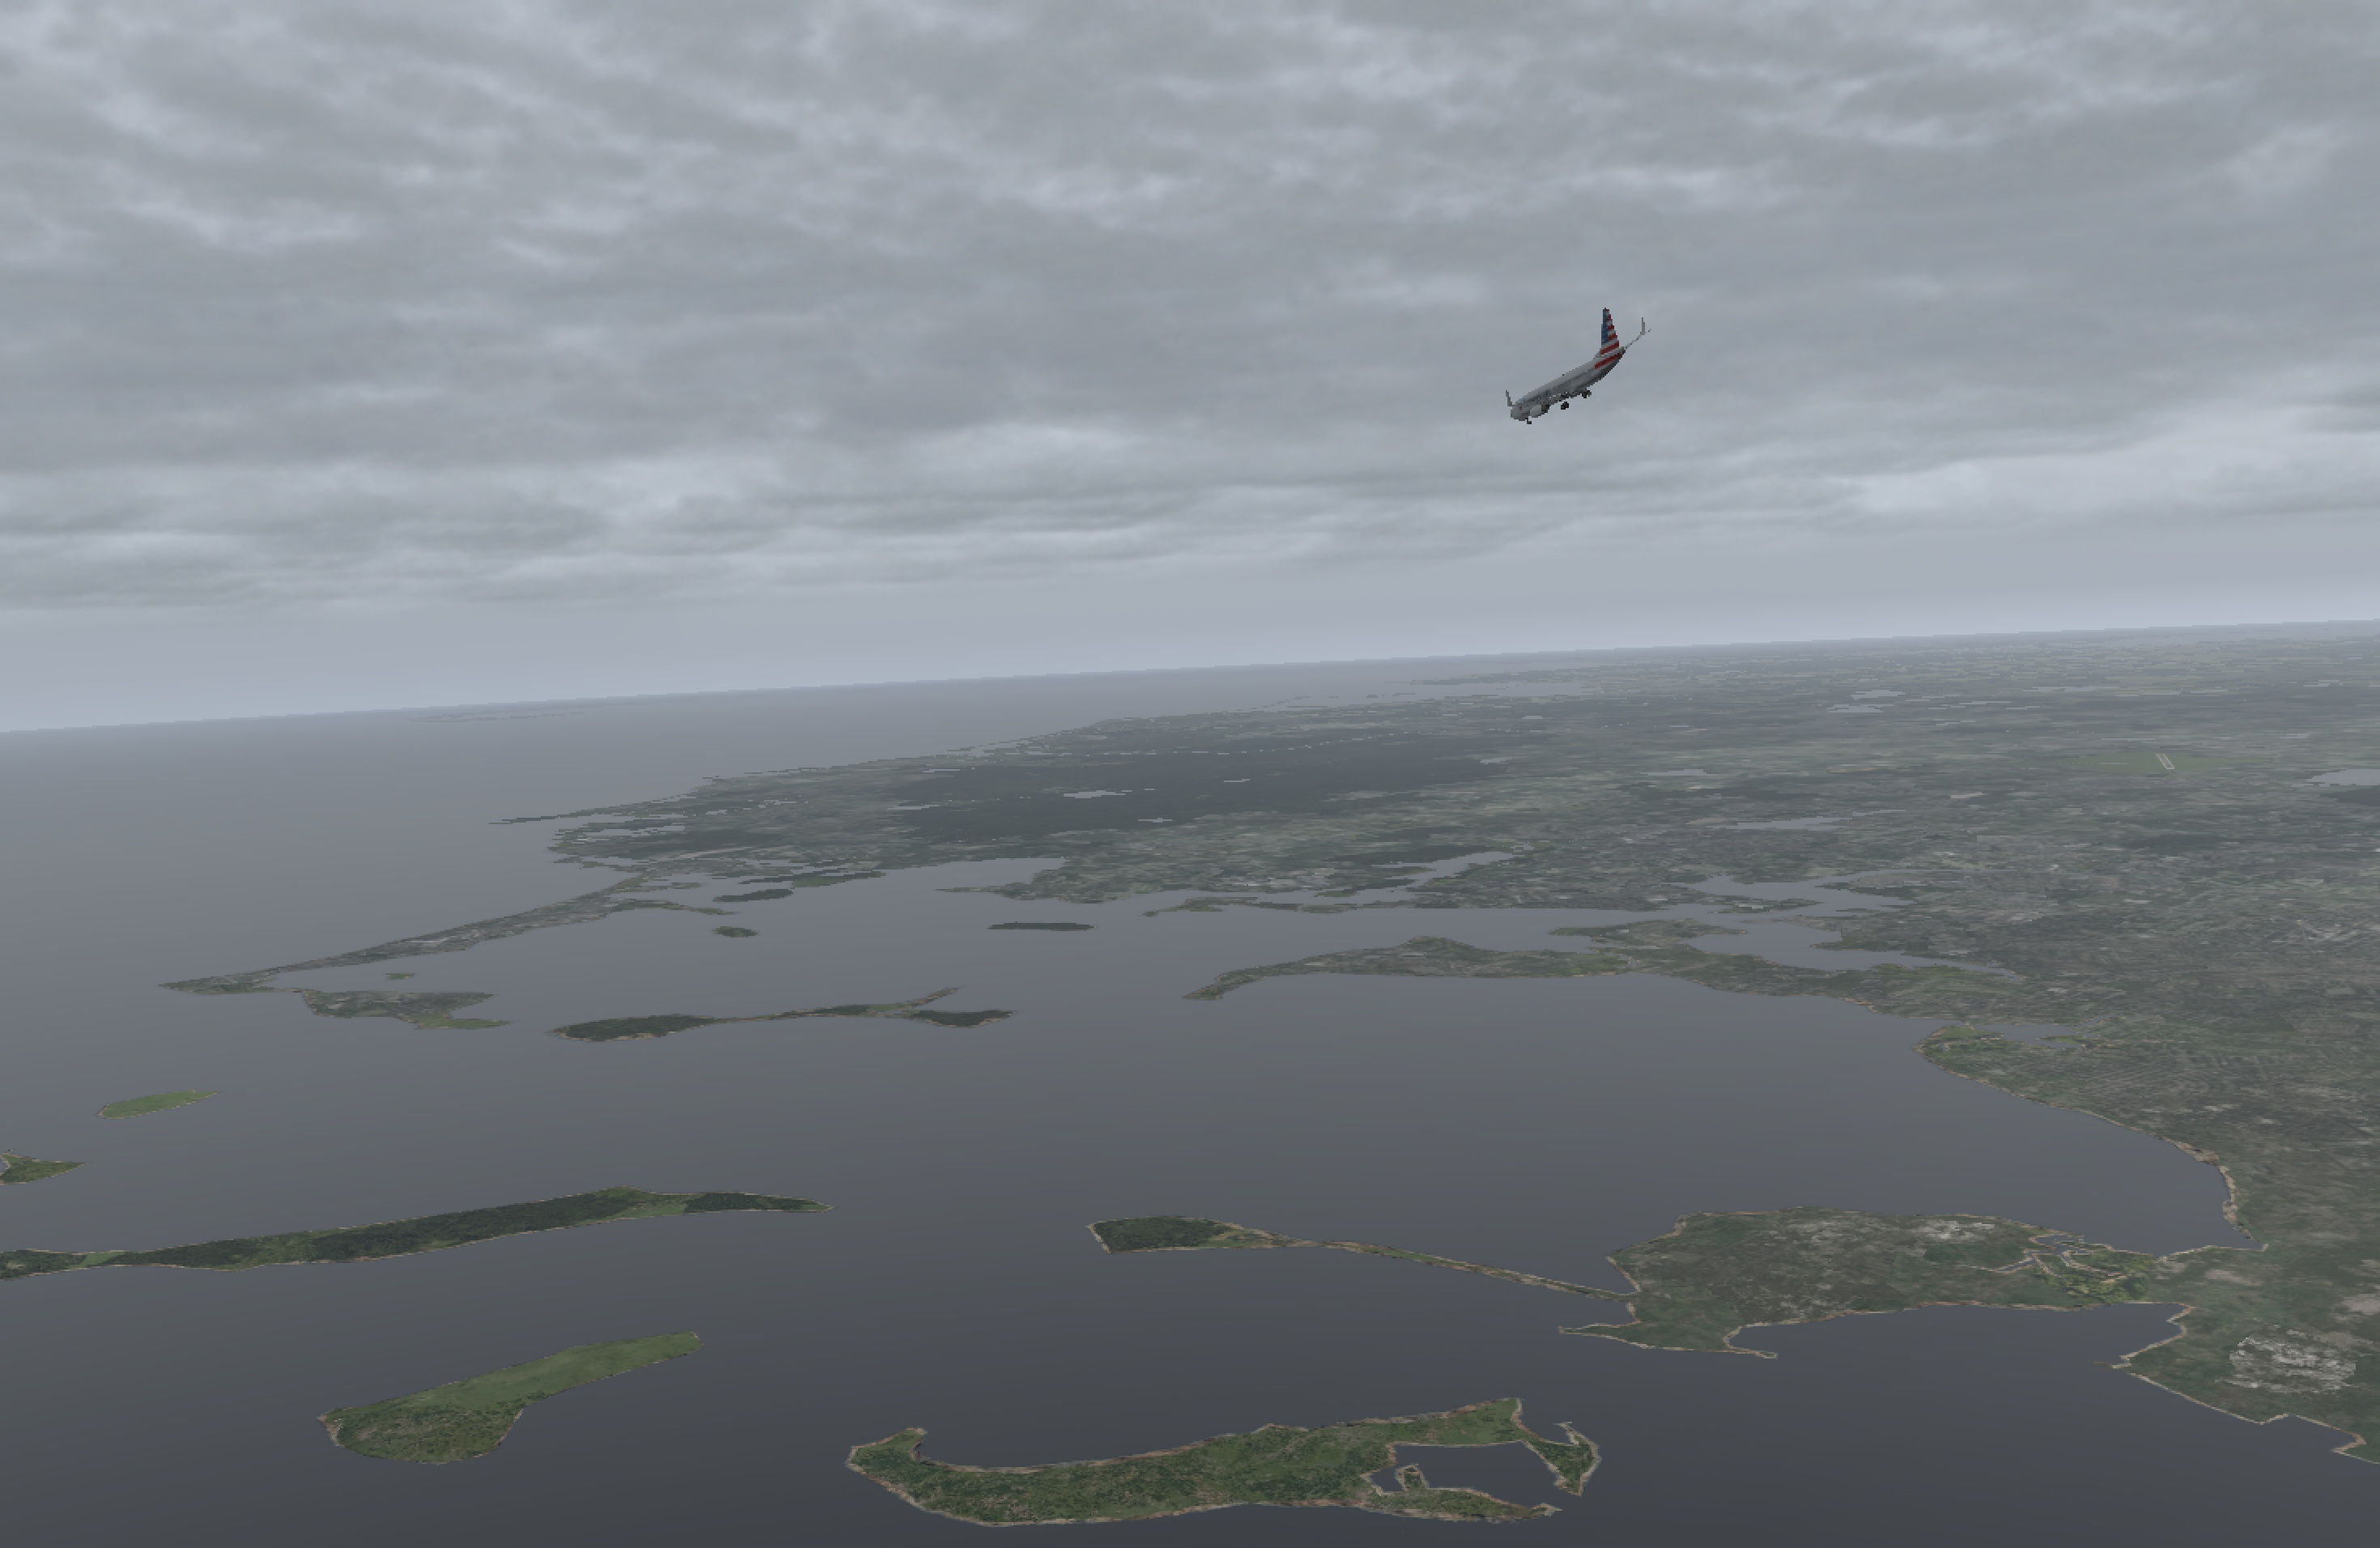aircraft: (1462, 351, 1669, 429)
